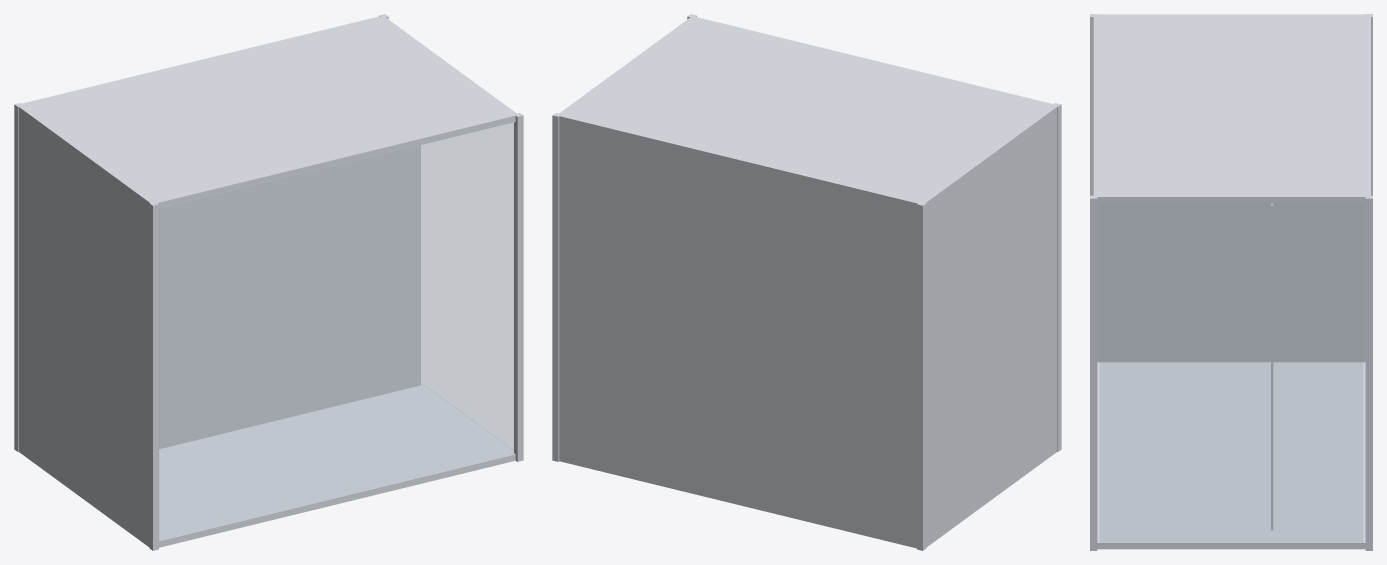
The model's file is retail-lian-li-o11-dynamic-mini-white.glb.
The picture shows the model from 3 angles, left to right: view 1: azimuth 30°, elevation 25°; view 2: azimuth 150°, elevation 25°; view 3: azimuth 270°, elevation 25°; orthographic projection. The views are drawn at different scales.
Parts seen in each view (by area): view 1: Side panel, Motherboard tray, Top, Rear, Base, Front panel, Frame rail (×3); view 2: Back, Top, Rear, Frame rail (×3); view 3: Front panel, Top, Base, Rear, Frame rail (×4), Motherboard tray, Back.
Part boxes in pixels (left/top/right/bottom): Side panel: left=159, top=122, right=513, bottom=540; Motherboard tray: left=159, top=145, right=420, bottom=449; Top: left=19, top=16, right=518, bottom=208; Rear: left=17, top=105, right=153, bottom=546; Base: left=159, top=382, right=515, bottom=547; Front panel: left=421, top=123, right=513, bottom=449; Frame rail (×3): left=14, top=103, right=523, bottom=550; Back: left=559, top=115, right=921, bottom=548; Top: left=557, top=16, right=1055, bottom=203; Rear: left=922, top=105, right=1058, bottom=546; Frame rail (×3): left=552, top=103, right=1061, bottom=550; Front panel: left=1100, top=203, right=1362, bottom=542; Top: left=1093, top=15, right=1369, bottom=203; Base: left=1097, top=362, right=1365, bottom=549; Rear: left=1093, top=14, right=1369, bottom=362; Frame rail (×4): left=1090, top=14, right=1372, bottom=550; Motherboard tray: left=1271, top=203, right=1273, bottom=530; Back: left=1368, top=15, right=1370, bottom=196.
Size of the model in its own units: 0.427 by 0.38 by 0.2765.
